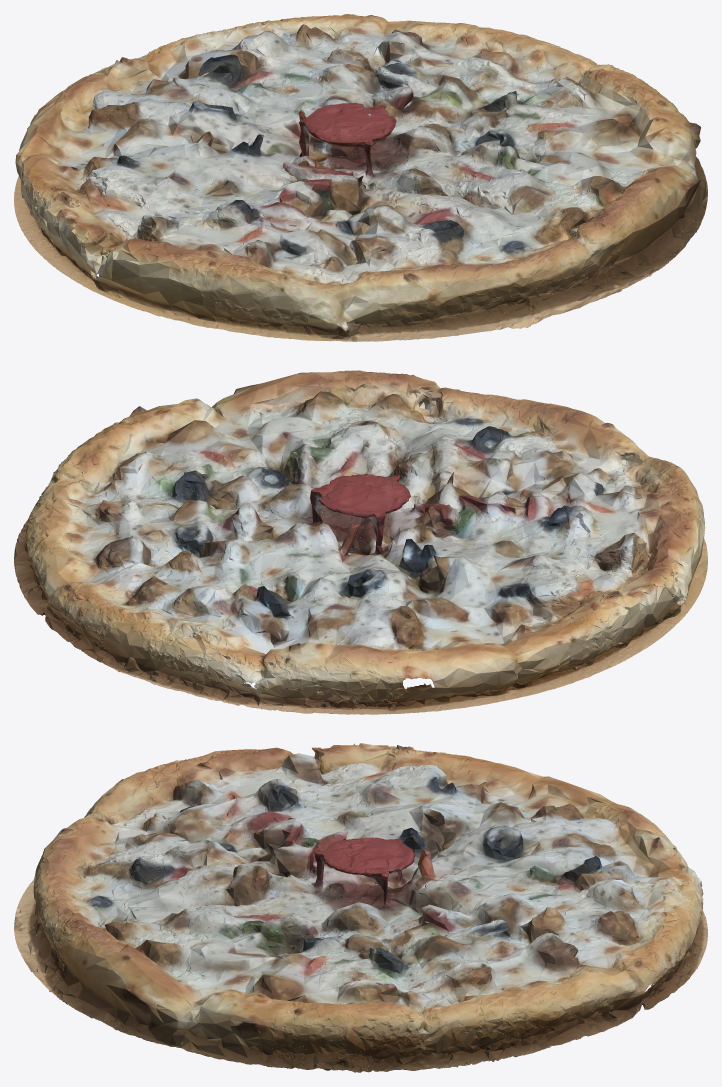
File: mr_pizza_mayo_ios-v1.glb
3 views of the same model, one above another, from view 1: azimuth 30°, elevation 25°; view 2: azimuth 150°, elevation 25°; view 3: azimuth 270°, elevation 25° (orthographic).
Parts seen in each view (by area): view 1: Object_7, Object_6, Object_3, Object_5, Object_2, Object_4; view 2: Object_3, Object_2, Object_4, Object_5, Object_7, Object_6; view 3: Object_5, Object_6, Object_2, Object_3, Object_7, Object_4.
Part boxes in pixels (bbox=[...]): Object_7: bbox=[86, 141, 618, 341]; Object_6: bbox=[162, 14, 707, 341]; Object_3: bbox=[14, 36, 419, 261]; Object_5: bbox=[91, 22, 701, 310]; Object_2: bbox=[37, 14, 619, 303]; Object_4: bbox=[14, 16, 634, 289]; Object_3: bbox=[155, 473, 642, 714]; Object_2: bbox=[24, 387, 697, 714]; Object_4: bbox=[97, 372, 674, 710]; Object_5: bbox=[14, 370, 675, 612]; Object_7: bbox=[289, 377, 706, 620]; Object_6: bbox=[17, 370, 707, 658]; Object_5: bbox=[22, 837, 618, 1072]; Object_6: bbox=[14, 771, 686, 1071]; Object_2: bbox=[35, 747, 707, 1049]; Object_3: bbox=[229, 746, 664, 933]; Object_7: bbox=[14, 747, 320, 974]; Object_4: bbox=[39, 743, 706, 977].
Bounding box in the file's own units: 0.2859 × 0.0375 × 0.2891.
1 material, 1 textured.
